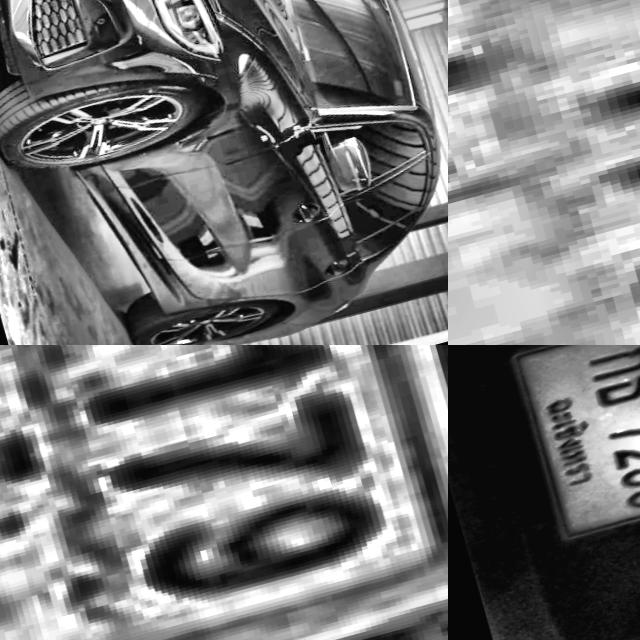license-plate: (0, 345, 448, 640), (448, 0, 640, 345), (510, 345, 640, 536)
